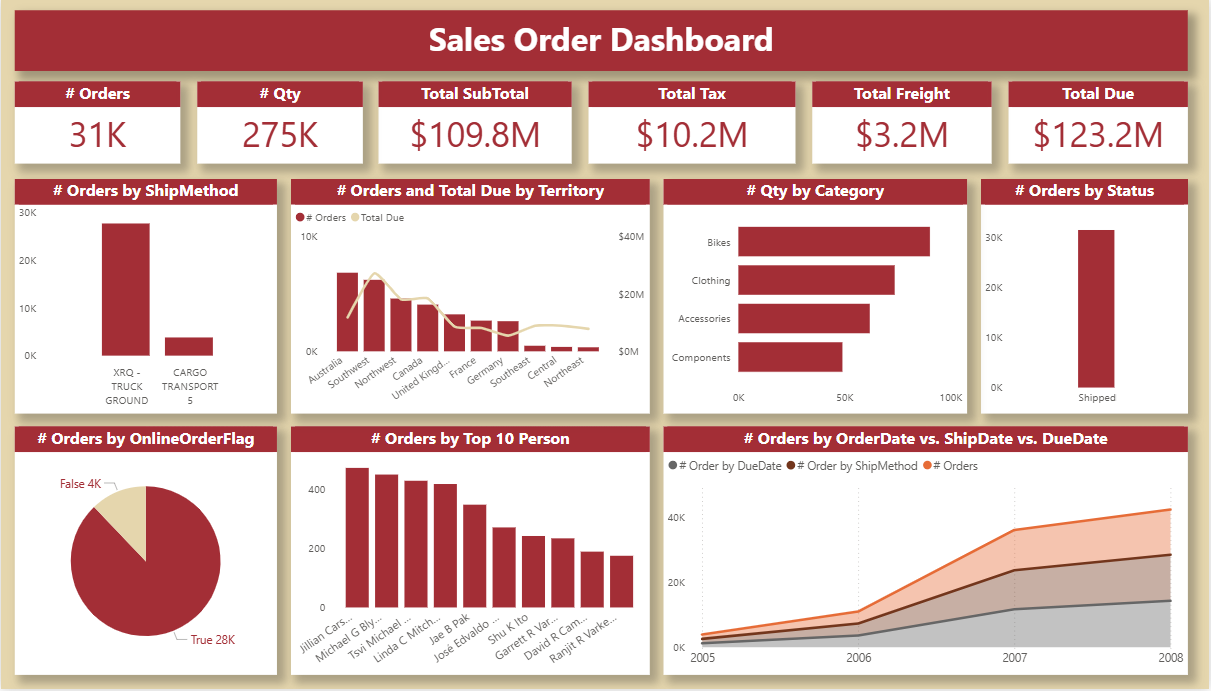

The page's visual inventory and layout, read from the dashboard file:
{"tool":"powerbi","page":{"name":"Sales","canvas":[1400,800],"ordinal":0},"visuals":[{"type":"textbox","box":[16,13,1360,70],"z":0},{"type":"card","title":"# Orders","fields":{"Values":["DAX_Measures.# Orders"]},"box":[16,96,192,95],"z":1000},{"type":"card","title":"Total SubTotal","fields":{"Values":["DAX_Measures.Total SubTotal"]},"box":[438.4,96,224,95],"z":2000},{"type":"card","title":"Total Due","fields":{"Values":["DAX_Measures.Total Due"]},"box":[1168,96,208,95],"z":3000},{"type":"card","title":"Total Freight","fields":{"Values":["DAX_Measures.Total Freight"]},"box":[940.8,96,208,95],"z":4000},{"type":"card","title":"Total Tax","fields":{"Values":["DAX_Measures.Total Tax"]},"box":[681.6,96,240,95],"z":5000},{"type":"card","title":"# Qty","fields":{"Values":["DAX_Measures.# Qty"]},"box":[227.2,96,192,95],"z":6000},{"type":"columnChart","fields":{"Y":["DAX_Measures.# Orders"],"Category":["Status.Status"]},"box":[1136,208,240,272],"z":7000},{"type":"columnChart","fields":{"Category":["ShipMethods.ShipMethod"],"Y":["DAX_Measures.# Orders"]},"box":[16,208,304,272],"z":8000},{"type":"pieChart","fields":{"Category":["OrderDetails.OnlineOrderFlag"],"Y":["DAX_Measures.# Orders"]},"box":[16,496,304,288],"z":9000},{"type":"columnChart","fields":{"Category":["SalesPerson.FullName"],"Y":["DAX_Measures.# Orders"]},"box":[336,496,416,288],"z":10000},{"type":"lineClusteredColumnComboChart","fields":{"Y":["DAX_Measures.# Orders"],"Category":["Territories.Territory"],"Y2":["DAX_Measures.Total Due"]},"box":[336,208,416,272],"z":11000},{"type":"clusteredBarChart","fields":{"Y":["DAX_Measures.# Qty"],"Category":["Products.ProductHierarchy.Category","Products.ProductHierarchy.Subcategory","Products.ProductHierarchy.Product"]},"box":[768,208,352,272],"z":12000},{"type":"stackedAreaChart","title":"# Orders by OrderDate vs. ShipDate vs. DueDate","fields":{"Category":["Dates.DateHierarchy.Year","Dates.DateHierarchy.Month","Dates.DateHierarchy.Quarter","Dates.DateHierarchy.Day"],"Y":["DAX_Measures.# Order by DueDate","DAX_Measures.# Order by ShipMethod","DAX_Measures.# Orders"]},"box":[768,496,608,288],"z":13000}]}

Visuals, with their boxes in screenshot pixels (x1, y1, x2, y2), scaled from the page's 1400x800 canvas onto the 1211x691 screenshot:
textbox: [14,11,1190,72]
"# Orders" card: [14,83,180,165]
"Total SubTotal" card: [379,83,573,165]
"Total Due" card: [1010,83,1190,165]
"Total Freight" card: [814,83,994,165]
"Total Tax" card: [590,83,797,165]
"# Qty" card: [197,83,363,165]
columnChart - DAX_Measures.# Orders x Status.Status: [983,180,1190,415]
columnChart - ShipMethods.ShipMethod x DAX_Measures.# Orders: [14,180,277,415]
pieChart - OrderDetails.OnlineOrderFlag x DAX_Measures.# Orders: [14,428,277,677]
columnChart - SalesPerson.FullName x DAX_Measures.# Orders: [291,428,650,677]
lineClusteredColumnComboChart - DAX_Measures.# Orders x Territories.Territory: [291,180,650,415]
clusteredBarChart - DAX_Measures.# Qty x Products.ProductHierarchy.Category: [664,180,969,415]
"# Orders by OrderDate vs. ShipDate vs. DueDate" stackedAreaChart: [664,428,1190,677]
